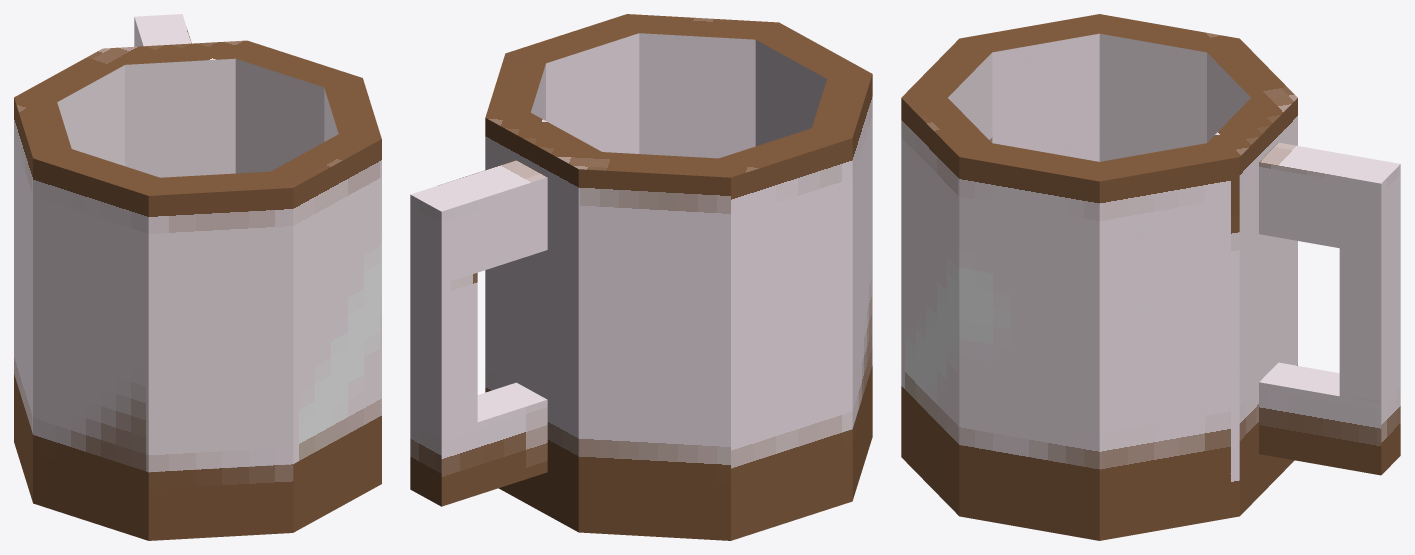
The model's file is mug.glb.
The picture shows the model from 3 angles, left to right: view 1: azimuth 30°, elevation 25°; view 2: azimuth 150°, elevation 25°; view 3: azimuth 270°, elevation 25°; orthographic projection. The views are drawn at different scales.
Visible parts, largest first — view 1: mug; view 2: mug; view 3: mug.
Part boxes in pixels (x1=…): mug: x1=14, y1=14, x2=381, y2=540; mug: x1=410, y1=14, x2=872, y2=540; mug: x1=901, y1=14, x2=1400, y2=540.
Size of the model in its own units: 2 by 2 by 2.52.
Materials: 1 (1 with a texture image).
